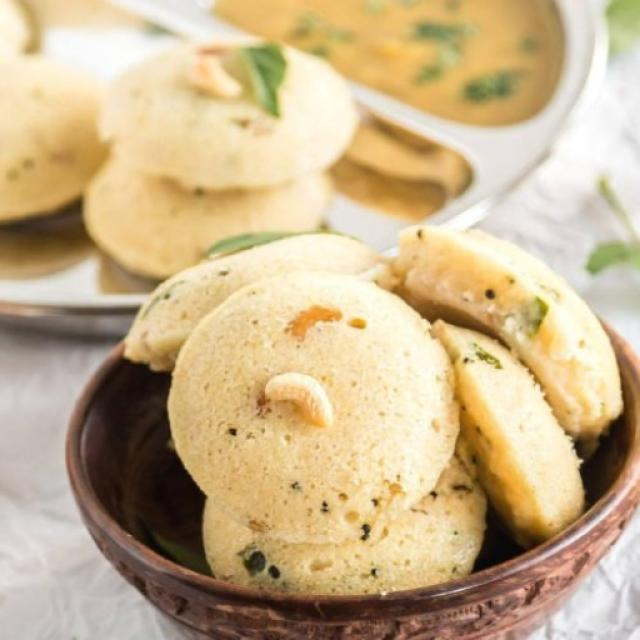IDLI: (126, 226, 623, 595)
